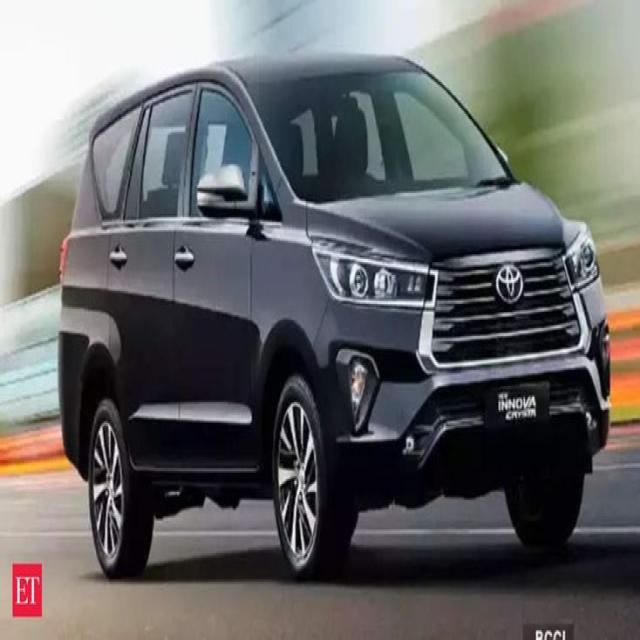light_vehicle: (57, 55, 611, 582)
